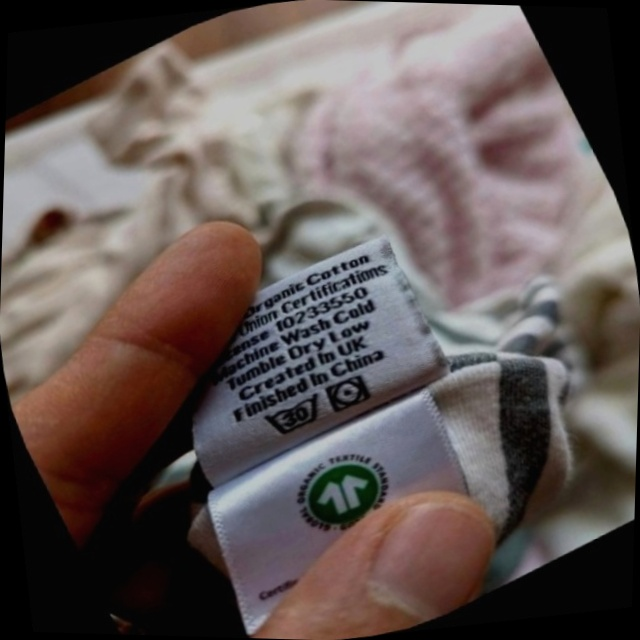30C: (250, 381, 338, 451)
tumble_dry_low: (316, 363, 381, 424)
